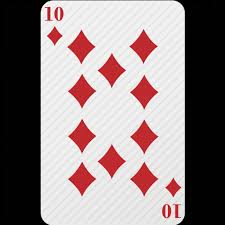ten of diamonds: (40, 1, 186, 225)
